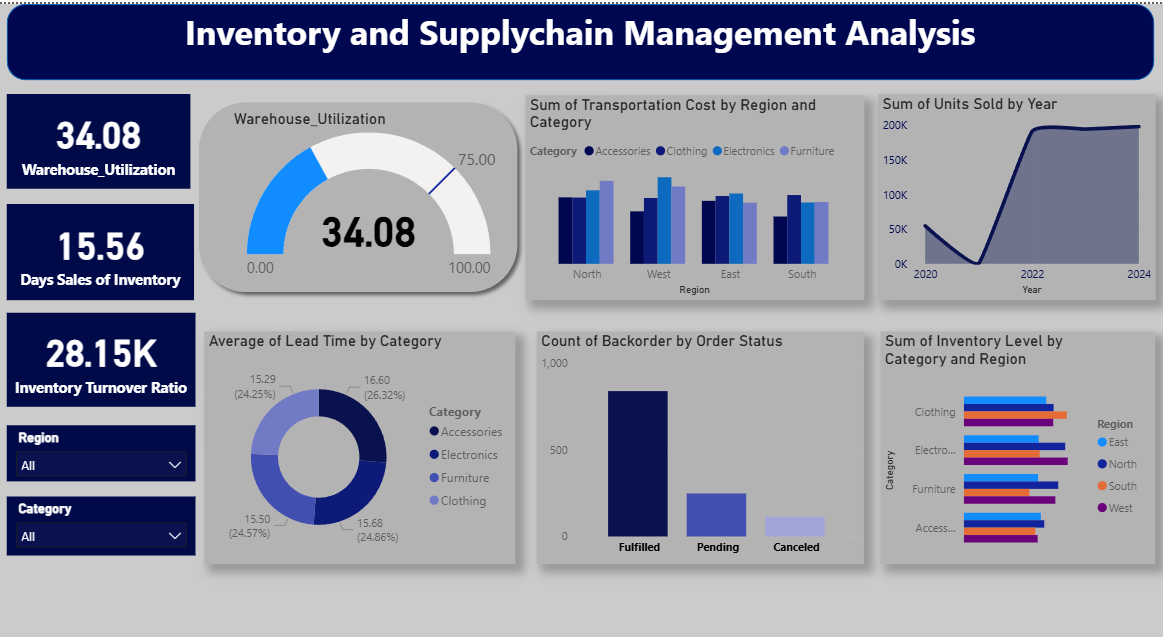

Layout of this report page (visuals, bound fields, positions):
{"tool":"powerbi","page":{"name":"Page 1","canvas":[1280,720],"ordinal":0},"visuals":[{"type":"shape","box":[9.6,0,1259.7,83.7],"z":0},{"type":"shape","box":[211.3,98.8,367.8,226.4],"z":0,"group":"g1"},{"type":"textbox","box":[200.3,0,878.2,64.5],"z":1000},{"type":"card","fields":{"Values":["Inventory and Supplychain.Warehouse_Utilization"]},"box":[9.6,98.8,201.7,104.3],"z":2000},{"type":"card","fields":{"Values":["Inventory and Supplychain.Days Sales of Inventory"]},"box":[9.6,219.6,205.8,105.7],"z":3000},{"type":"card","fields":{"Values":["Inventory and Supplychain.Inventory Turnover Ratio"]},"box":[9.6,338.9,207.2,102.9],"z":4000},{"type":"slicer","fields":{"Values":["Inventory and Supplychain.Region"]},"box":[9.6,462.4,207.2,61.7],"z":5000},{"type":"slicer","fields":{"Values":["Inventory and Supplychain.Category"]},"box":[9.6,540.7,207.2,64.5],"z":6000},{"type":"clusteredColumnChart","fields":{"Y":["Sum(Inventory and Supplychain.Transportation Cost)"],"Category":["Inventory and Supplychain.Region"],"Series":["Inventory and Supplychain.Category"]},"box":[579.1,100.2,371.9,225],"z":7000},{"type":"lineChart","fields":{"Y":["Sum(Inventory and Supplychain.Units Sold)"],"Category":["Inventory and Supplychain.Date.Variation.Date Hierarchy.Year"]},"box":[966,98.8,304.6,226.4],"z":8000},{"type":"gauge","fields":{"Y":["Inventory and Supplychain.Warehouse_Utilization"]},"box":[253.8,114.8,314.2,196.1],"z":8000,"group":"g1"},{"type":"group","id":"g1","title":"Group 1","box":[211.3,98.8,367.8,226.4],"z":9000},{"type":"donutChart","fields":{"Y":["Avg(Inventory and Supplychain.Lead Time)"],"Category":["Inventory and Supplychain.Category"]},"box":[226.4,359.5,341.7,255.2],"z":10000},{"type":"columnChart","fields":{"Y":["CountNonNull(Inventory and Supplychain.Backorder)"],"Category":["Inventory and Supplychain.Order Status"]},"box":[591.4,359.5,359.5,255.2],"z":11000},{"type":"clusteredBarChart","fields":{"Y":["Sum(Inventory and Supplychain.Inventory Level)"],"Category":["Inventory and Supplychain.Category"],"Series":["Inventory and Supplychain.Region"]},"box":[968.8,359.5,301.9,255.2],"z":12000}]}

Visuals, with their boxes in screenshot pixels (x1, y1, x2, y2), scaled from the page's 1280x720 canvas onto the 1163x637 screenshot:
shape: <region>9, 0, 1153, 74</region>
shape: <region>192, 87, 526, 288</region>
textbox: <region>182, 0, 980, 57</region>
card - Inventory and Supplychain.Warehouse_Utilization: <region>9, 87, 192, 180</region>
card - Inventory and Supplychain.Days Sales of Inventory: <region>9, 194, 196, 288</region>
card - Inventory and Supplychain.Inventory Turnover Ratio: <region>9, 300, 197, 391</region>
slicer - Inventory and Supplychain.Region: <region>9, 409, 197, 464</region>
slicer - Inventory and Supplychain.Category: <region>9, 478, 197, 535</region>
clusteredColumnChart - Sum(Inventory and Supplychain.Transportation Cost) x Inventory and Supplychain.Region: <region>526, 89, 864, 288</region>
lineChart - Sum(Inventory and Supplychain.Units Sold) x Inventory and Supplychain.Date.Variation.Date Hierarchy.Year: <region>878, 87, 1154, 288</region>
gauge - Inventory and Supplychain.Warehouse_Utilization: <region>231, 102, 516, 275</region>
"Group 1" group: <region>192, 87, 526, 288</region>
donutChart - Avg(Inventory and Supplychain.Lead Time) x Inventory and Supplychain.Category: <region>206, 318, 516, 544</region>
columnChart - CountNonNull(Inventory and Supplychain.Backorder) x Inventory and Supplychain.Order Status: <region>537, 318, 864, 544</region>
clusteredBarChart - Sum(Inventory and Supplychain.Inventory Level) x Inventory and Supplychain.Category: <region>880, 318, 1155, 544</region>
